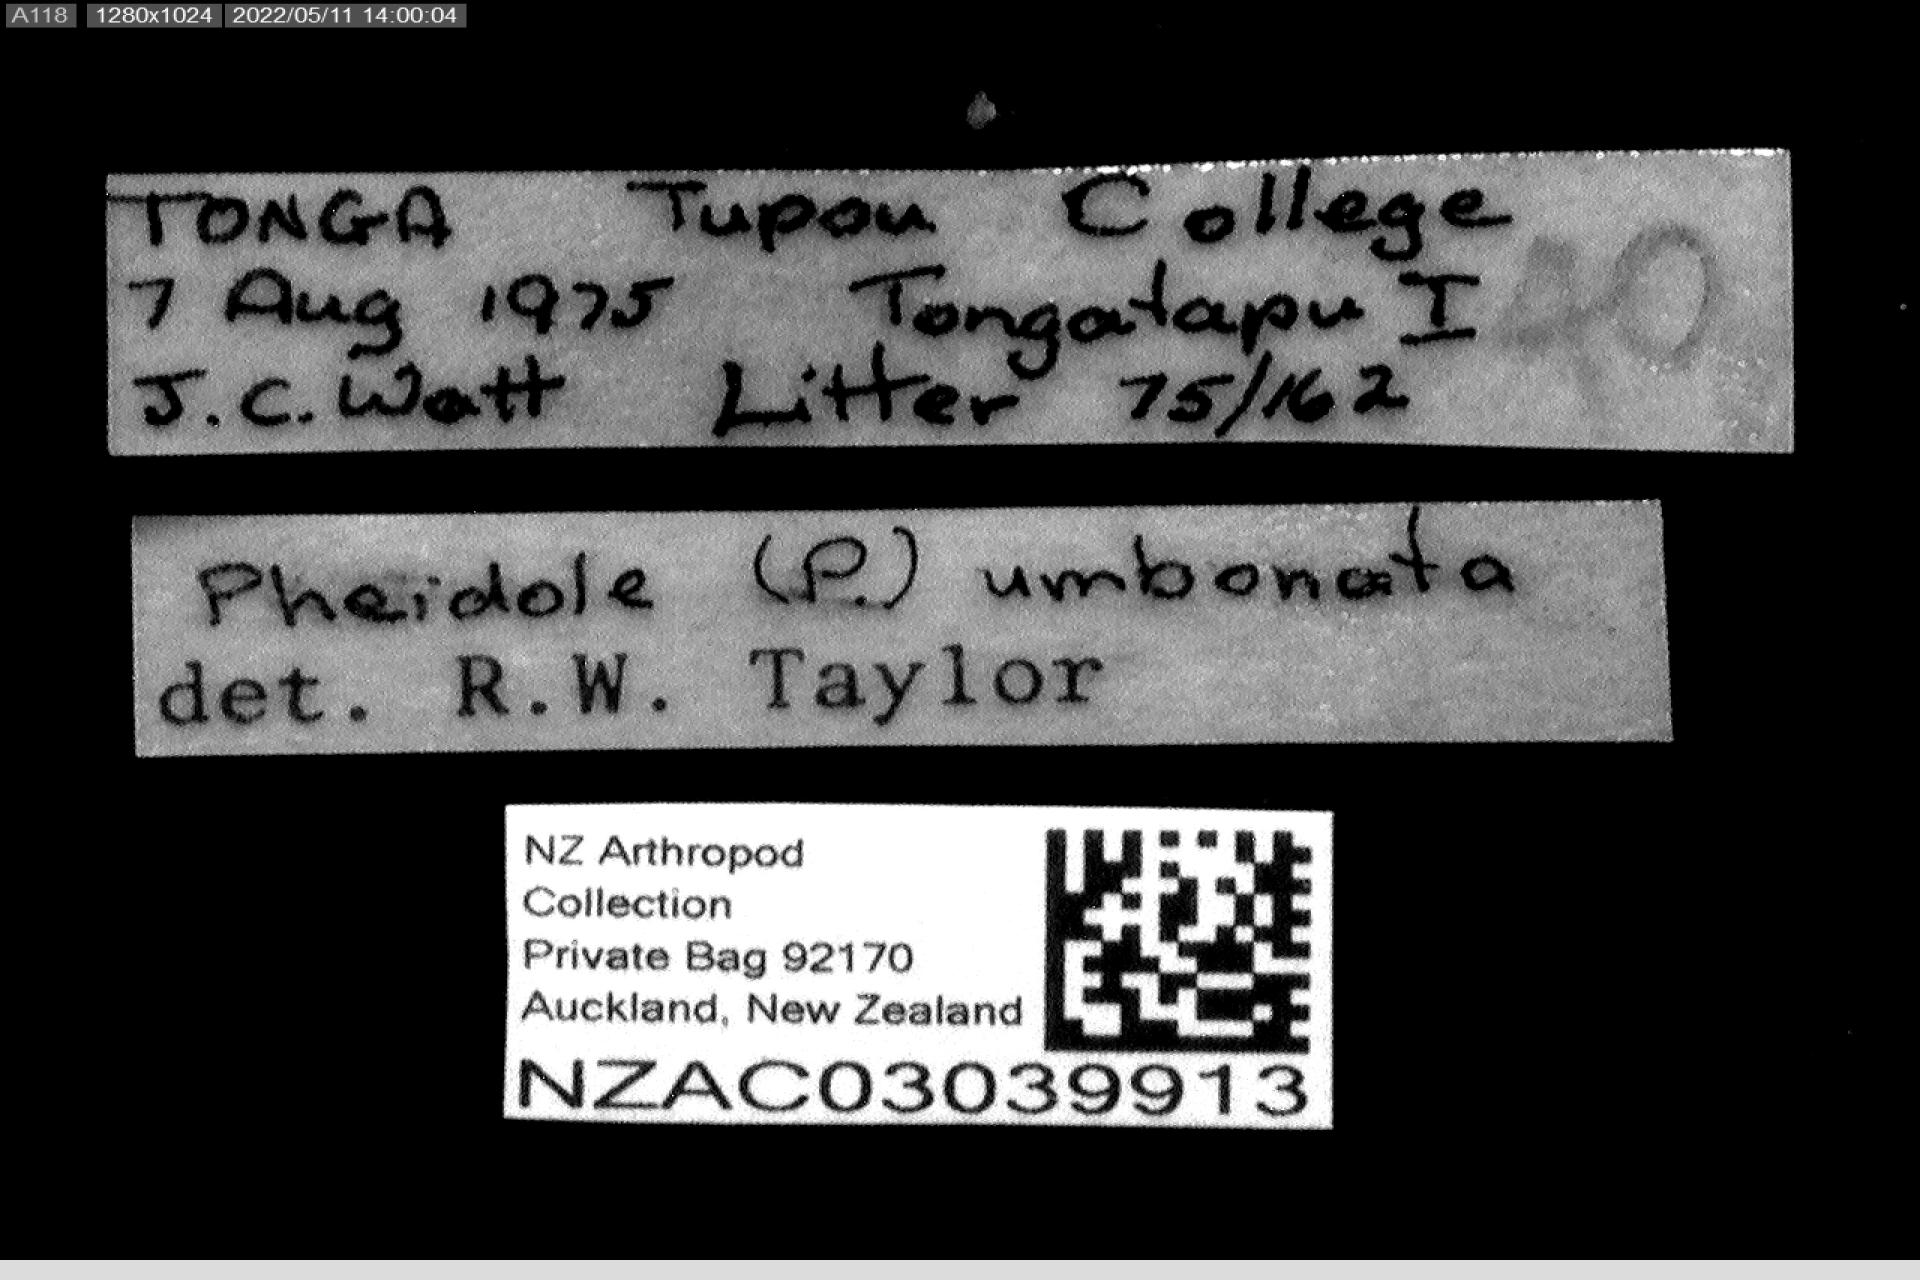hand_label: (106, 150, 1793, 453)
mixed_label: (134, 503, 1669, 756)
typed_label: (506, 803, 1331, 1129)
